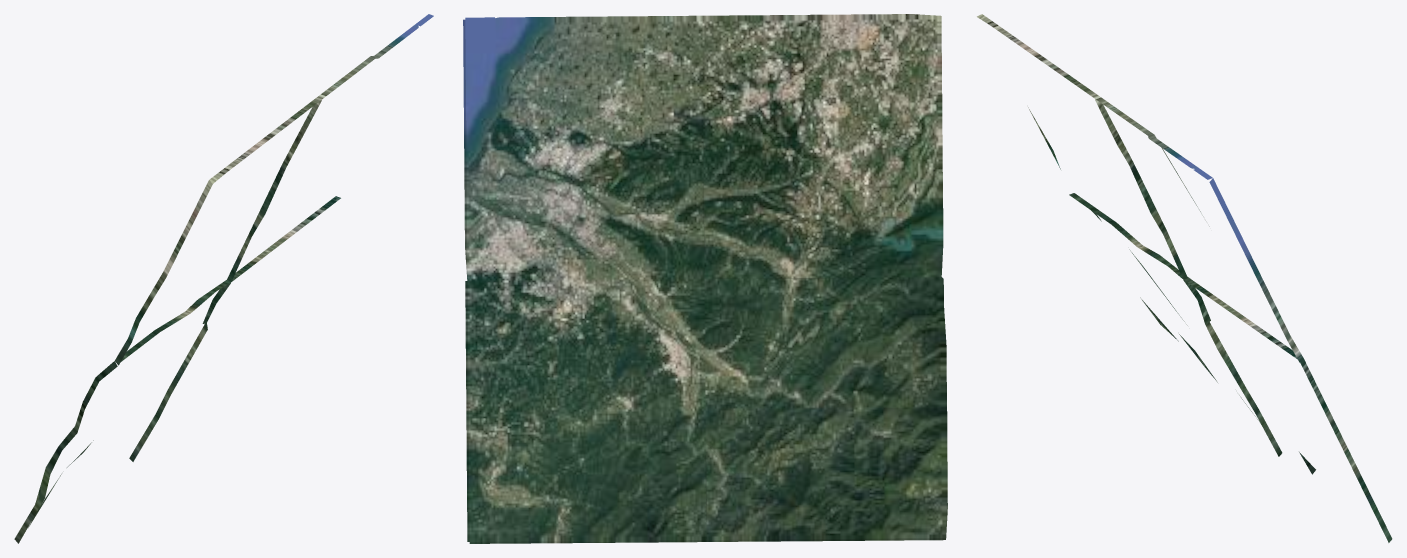
The picture shows the model from 3 angles, left to right: view 1: azimuth 30°, elevation 25°; view 2: azimuth 150°, elevation 25°; view 3: azimuth 270°, elevation 25°; orthographic projection. The views are drawn at different scales.
Bounding box in the file's own units: 40053 × 35920 × 32908.
1 material, 1 textured.
